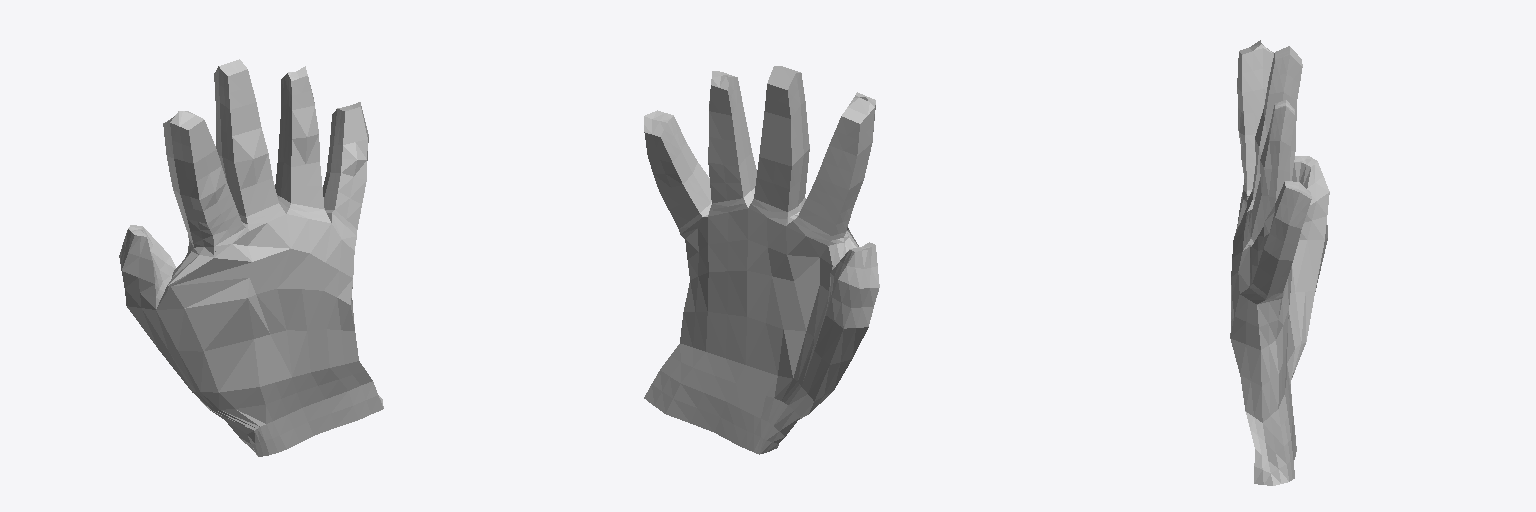
File: flexion0003.obj
3 renders of one model, left to right at view 1: azimuth 30°, elevation 25°; view 2: azimuth 150°, elevation 25°; view 3: azimuth 270°, elevation 25°, orthographic.
Parts seen in each view (by area): view 1: Hand; view 2: Hand; view 3: Hand.
Part boxes in pixels (x1,y1,x2,y2): Hand: (119, 59, 383, 456); Hand: (644, 66, 879, 454); Hand: (1230, 40, 1329, 485).
Bounding box in the file's own units: 3.27 × 4.97 × 1.14.